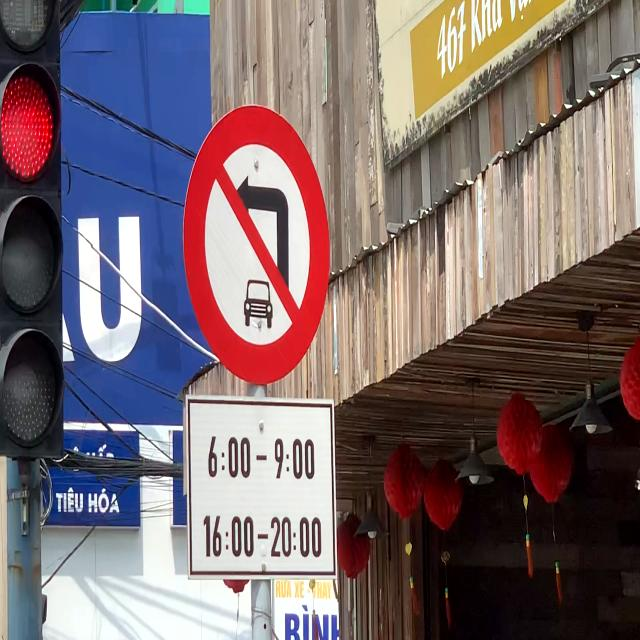P.103c: (179, 102, 335, 386)
